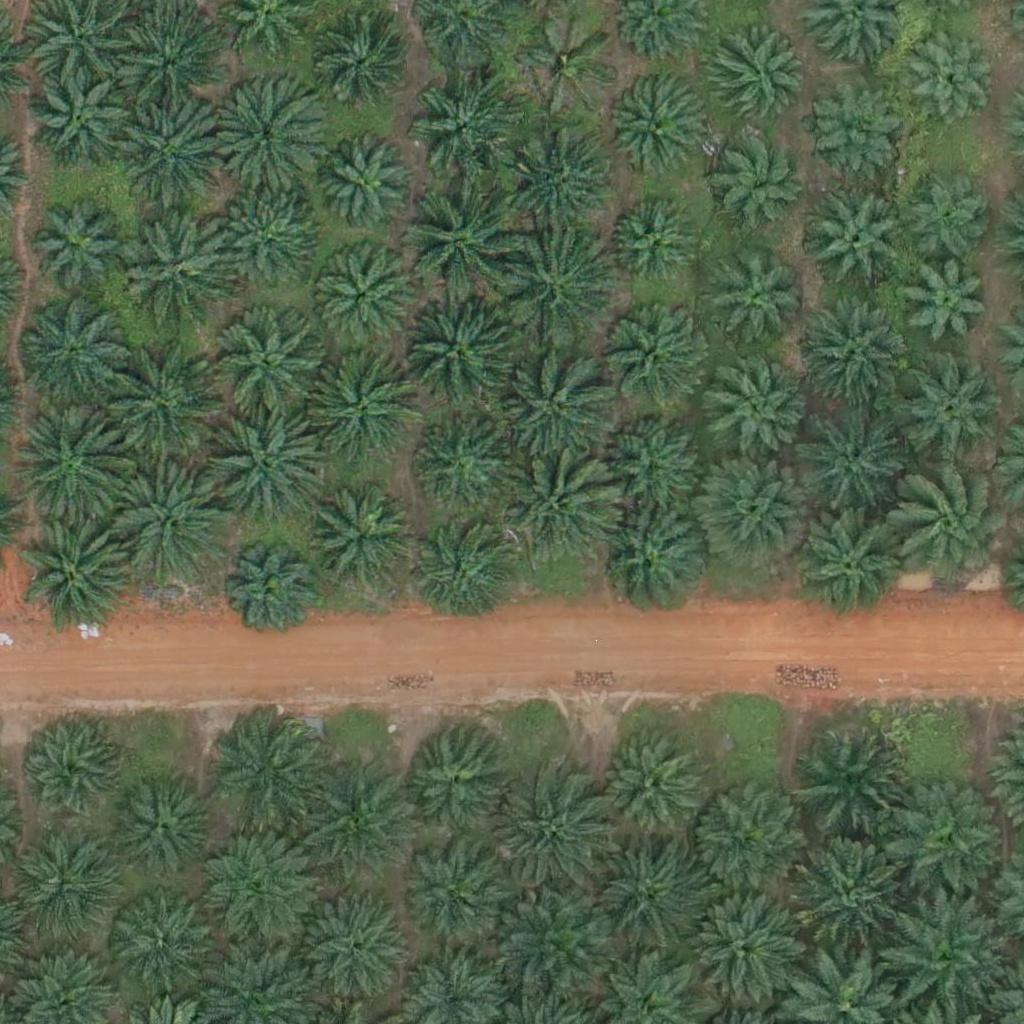Kelapa_Sawit: (891, 465, 1016, 591), (402, 293, 515, 407), (209, 77, 322, 191), (118, 93, 231, 207), (112, 470, 225, 584), (9, 410, 122, 524), (886, 787, 999, 900), (689, 783, 802, 896), (690, 887, 803, 1000), (587, 842, 700, 955), (501, 888, 614, 1001), (399, 835, 512, 948), (292, 771, 405, 884), (293, 892, 406, 1005), (206, 720, 319, 833), (199, 837, 312, 950), (795, 302, 908, 415), (795, 403, 908, 516), (791, 510, 904, 623), (496, 347, 609, 460), (499, 118, 612, 231), (401, 187, 514, 300), (304, 351, 417, 464), (214, 312, 327, 425), (123, 211, 236, 324), (397, 725, 509, 839), (499, 232, 611, 346), (16, 294, 128, 408), (889, 902, 1001, 1015), (798, 723, 910, 836), (791, 834, 903, 947), (495, 776, 607, 889), (891, 354, 1003, 467), (700, 458, 812, 571), (594, 504, 706, 617), (499, 452, 611, 565), (407, 66, 519, 179), (306, 488, 418, 601), (216, 409, 328, 522), (105, 344, 217, 457), (21, 521, 133, 634), (597, 736, 697, 837), (115, 772, 215, 873), (114, 901, 214, 1002), (811, 195, 911, 296), (704, 28, 804, 129), (709, 128, 809, 229), (705, 360, 805, 461), (607, 79, 707, 180), (606, 305, 706, 406), (414, 417, 514, 518), (411, 526, 511, 627), (311, 249, 411, 350), (28, 199, 128, 300), (29, 69, 129, 170), (9, 836, 109, 936), (20, 719, 120, 819), (803, 78, 903, 178), (607, 407, 707, 507), (519, 14, 619, 114), (308, 23, 408, 123), (219, 196, 319, 296), (119, 12, 219, 112), (321, 143, 409, 232), (609, 204, 697, 292), (905, 32, 992, 120), (905, 173, 992, 261), (902, 261, 989, 349), (713, 256, 800, 344), (224, 550, 311, 638)
